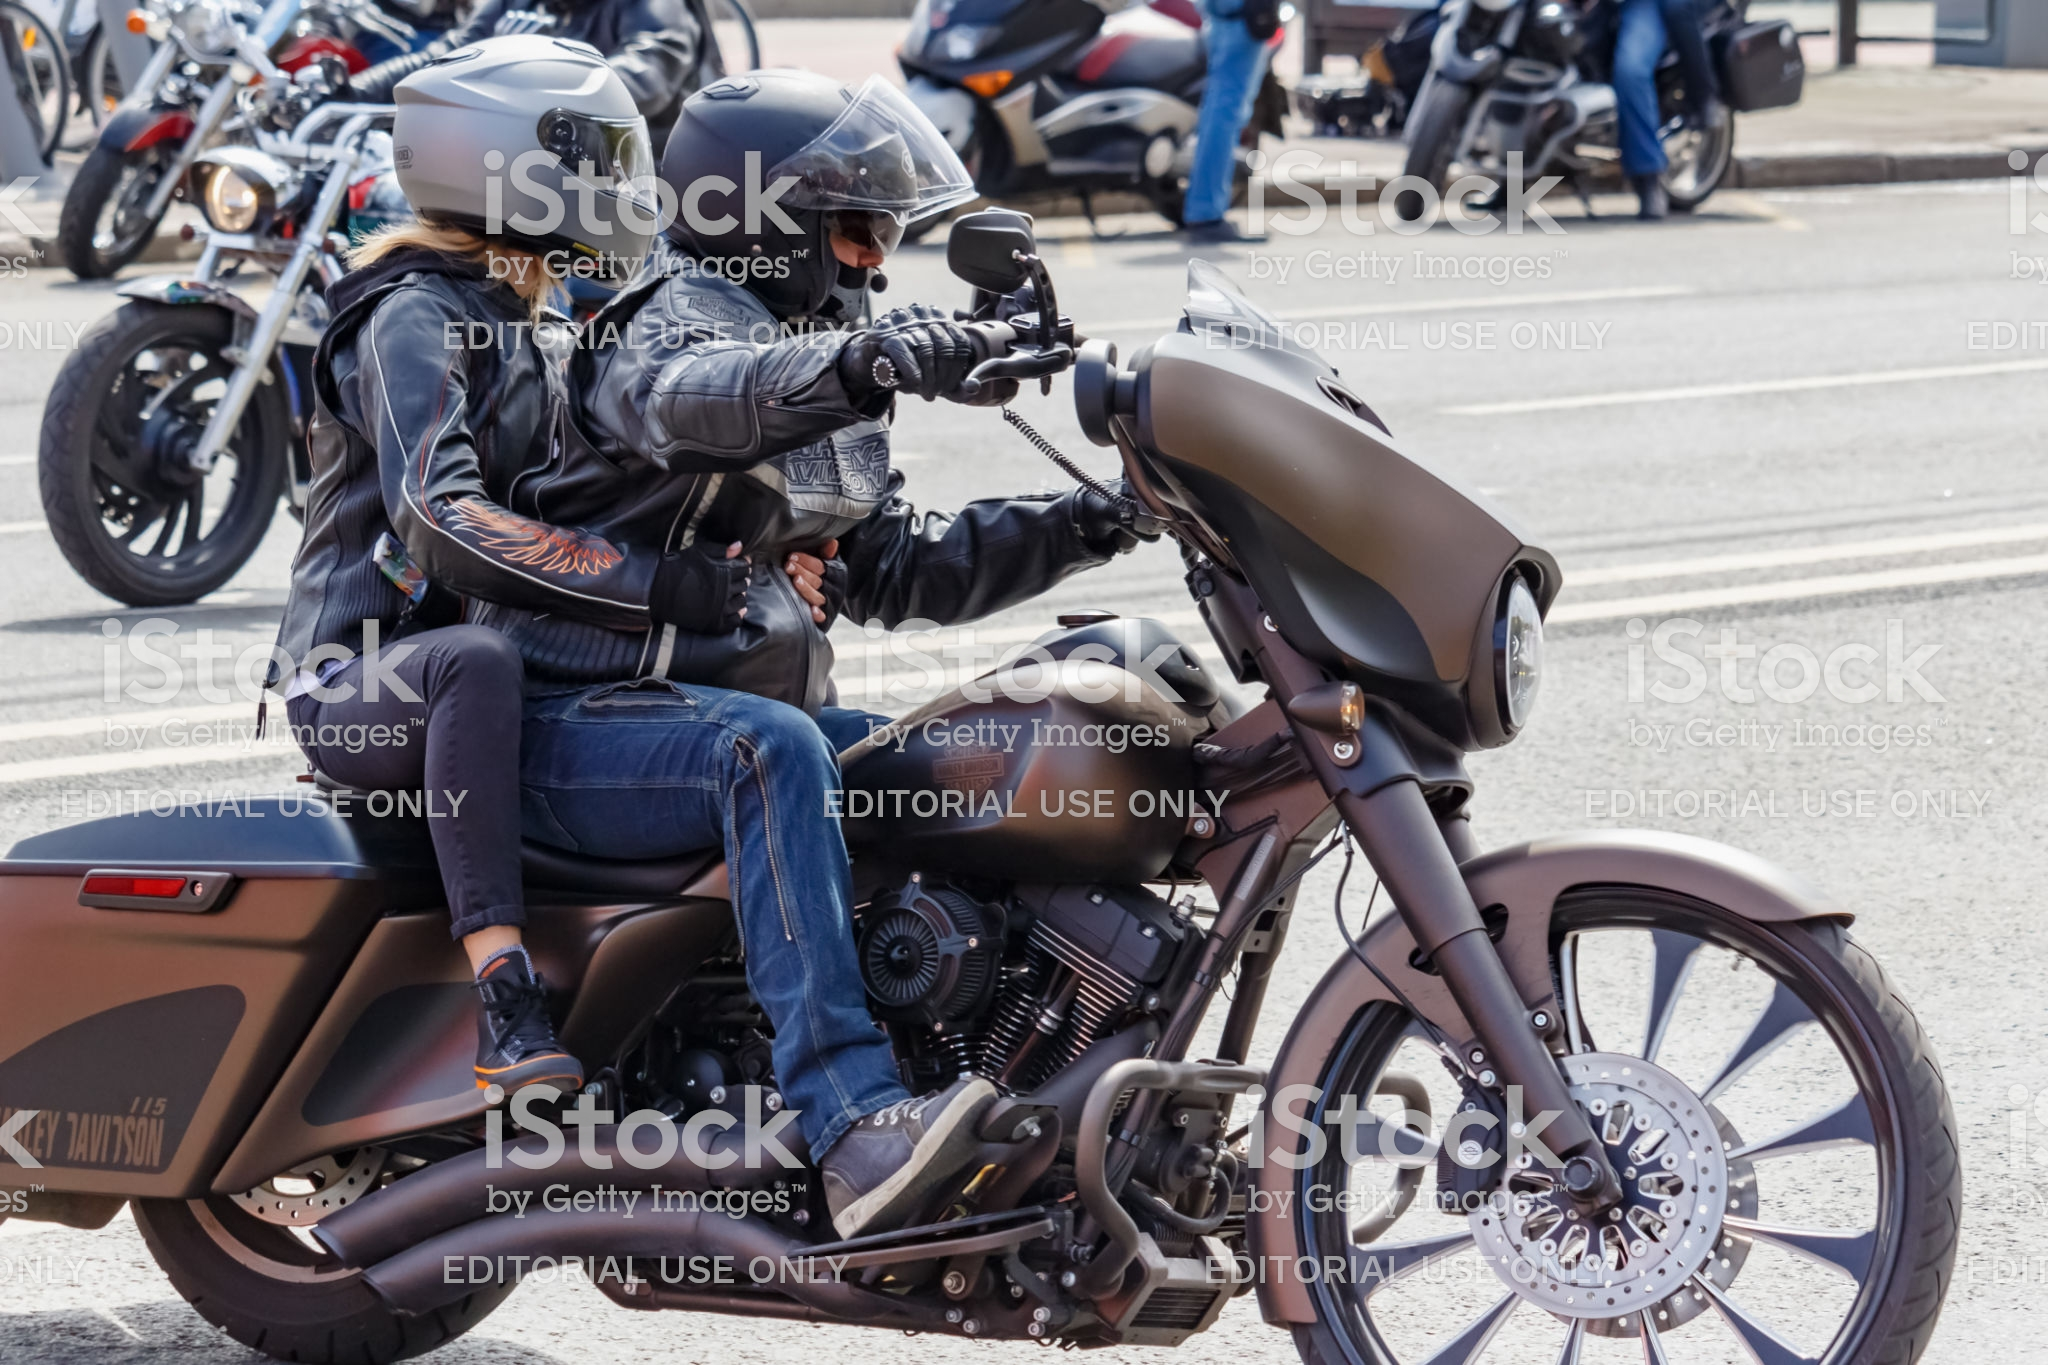helmet: (396, 40, 678, 296), (673, 72, 936, 288)
